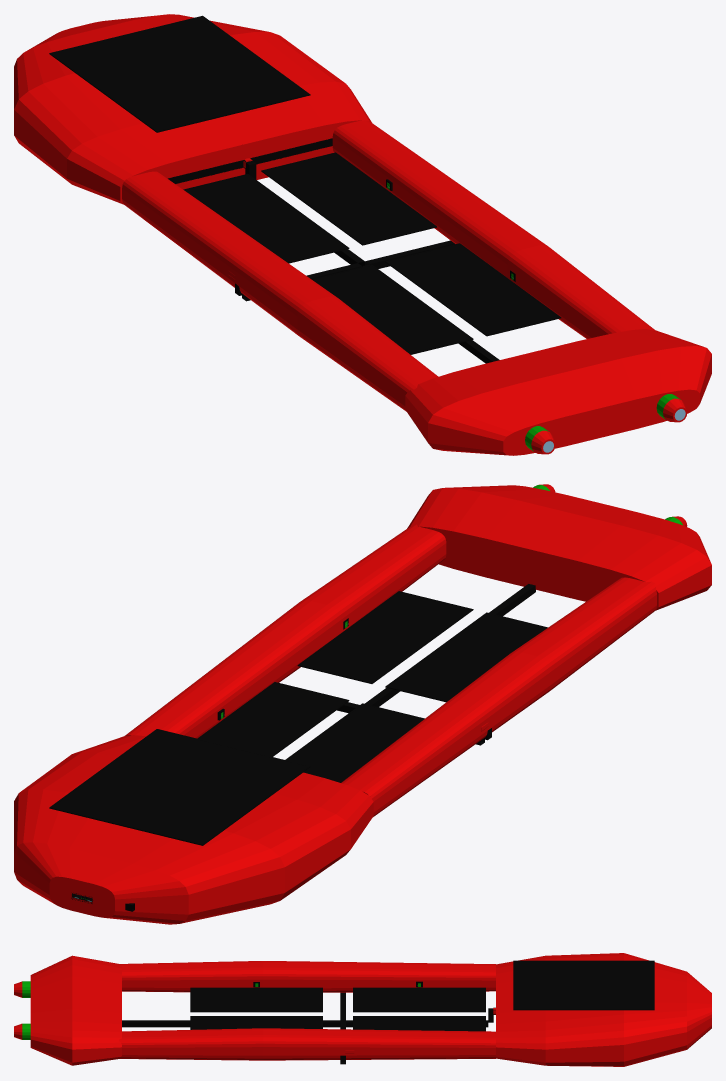
File: confluence.glb
The picture shows the model from 3 angles, top to bottom: view 1: azimuth 30°, elevation 25°; view 2: azimuth 150°, elevation 25°; view 3: azimuth 270°, elevation 25°; orthographic projection. The views are drawn at different scales.
Parts seen in each view (by area): view 1: horizon_confluence:forward_habitat, horizon_confluence:aft_service, horizon_confluence:spine--1, horizon_confluence:spine-1, horizon_confluence:pad_Dorsal visitor terrace, horizon_confluence:pad_spine-1 berth 2, horizon_confluence:pad_spine-1 berth 1, horizon_confluence:pad_spine--1 berth 1, horizon_confluence:pad_spine--1 berth 2, horizon_confluence:transit_guideway, horizon_confluence:room_forecross; view 2: horizon_confluence:forward_habitat, horizon_confluence:aft_service, horizon_confluence:spine--1, horizon_confluence:pad_Dorsal visitor terrace, horizon_confluence:spine-1, horizon_confluence:pad_spine-1 berth 2, horizon_confluence:pad_spine--1 berth 2, horizon_confluence:pad_spine-1 berth 1, horizon_confluence:pad_spine--1 berth 1, horizon_confluence:transit_guideway; view 3: horizon_confluence:forward_habitat, horizon_confluence:spine-1, horizon_confluence:spine--1, horizon_confluence:aft_service, horizon_confluence:pad_Dorsal visitor terrace, horizon_confluence:pad_spine--1 berth 1, horizon_confluence:pad_spine--1 berth 2, horizon_confluence:pad_spine-1 berth 1, horizon_confluence:pad_spine-1 berth 2, horizon_confluence:transit_guideway, horizon_confluence:field_drive_25, horizon_confluence:field_drive_26.
Boxes of the visible parts, <box> form: horizon_confluence:forward_habitat: <box>14,14,371,204</box>; horizon_confluence:aft_service: <box>405,329,711,455</box>; horizon_confluence:spine--1: <box>122,171,438,411</box>; horizon_confluence:spine-1: <box>332,120,654,338</box>; horizon_confluence:pad_Dorsal visitor terrace: <box>49,15,310,132</box>; horizon_confluence:pad_spine-1 berth 2: <box>385,243,561,336</box>; horizon_confluence:pad_spine-1 berth 1: <box>261,152,436,245</box>; horizon_confluence:pad_spine--1 berth 1: <box>183,174,349,263</box>; horizon_confluence:pad_spine--1 berth 2: <box>312,264,473,354</box>; horizon_confluence:transit_guideway: <box>235,161,499,363</box>; horizon_confluence:room_forecross: <box>168,138,332,183</box>; horizon_confluence:forward_habitat: <box>14,735,373,924</box>; horizon_confluence:aft_service: <box>407,485,711,610</box>; horizon_confluence:spine--1: <box>341,577,656,816</box>; horizon_confluence:pad_Dorsal visitor terrace: <box>49,729,310,845</box>; horizon_confluence:spine-1: <box>125,524,446,738</box>; horizon_confluence:pad_spine-1 berth 2: <box>297,591,473,683</box>; horizon_confluence:pad_spine--1 berth 2: <box>385,612,547,702</box>; horizon_confluence:pad_spine-1 berth 1: <box>197,682,349,756</box>; horizon_confluence:pad_spine--1 berth 1: <box>285,703,424,782</box>; horizon_confluence:transit_guideway: <box>337,584,535,745</box>; horizon_confluence:forward_habitat: <box>496,953,711,1066</box>; horizon_confluence:spine-1: <box>119,1028,495,1060</box>; horizon_confluence:spine--1: <box>119,961,495,992</box>; horizon_confluence:aft_service: <box>30,955,121,1065</box>; horizon_confluence:pad_Dorsal visitor terrace: <box>513,960,654,1010</box>; horizon_confluence:pad_spine--1 berth 1: <box>353,987,485,1012</box>; horizon_confluence:pad_spine--1 berth 2: <box>190,987,322,1012</box>; horizon_confluence:pad_spine-1 berth 1: <box>353,1016,485,1031</box>; horizon_confluence:pad_spine-1 berth 2: <box>190,1016,322,1029</box>; horizon_confluence:transit_guideway: <box>122,992,493,1064</box>; horizon_confluence:field_drive_25: <box>14,981,30,997</box>; horizon_confluence:field_drive_26: <box>14,1023,30,1039</box>.
Bounding box in the file's own units: 129 × 31.96 × 420.
